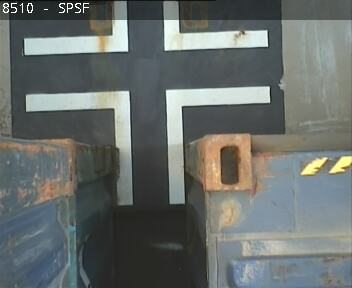groundmarker_1: (23, 86, 271, 205)
